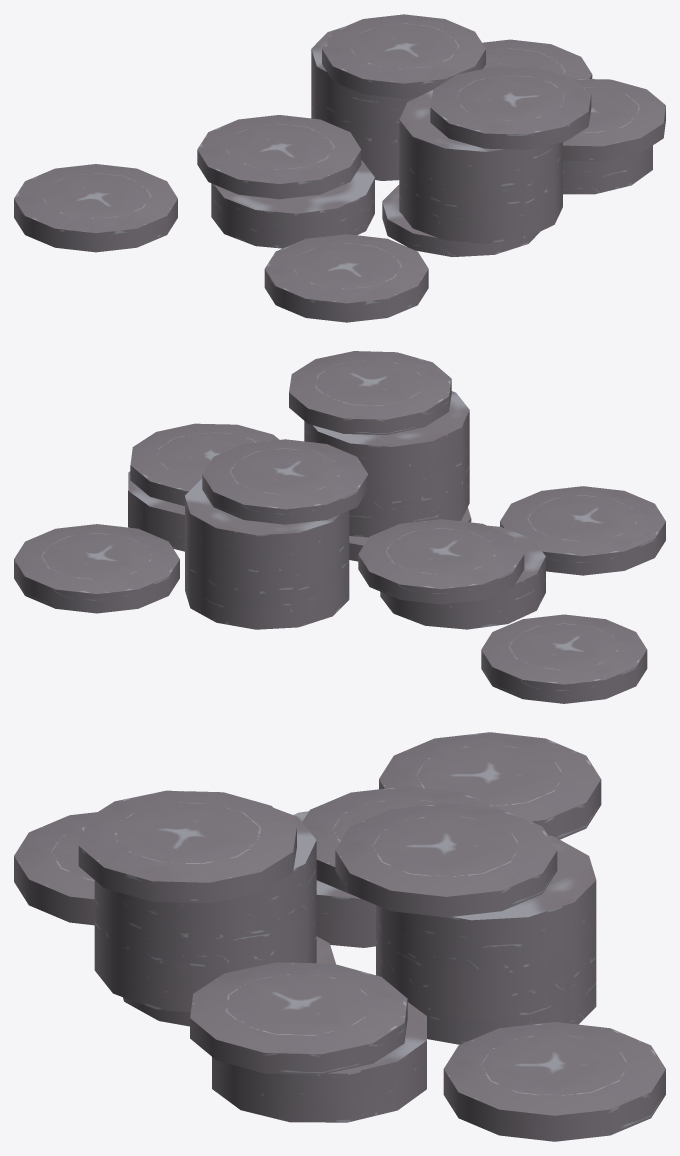
Rendered from Coin_Pile_2.fbx.
3 renders of one model, top to bottom at view 1: azimuth 30°, elevation 25°; view 2: azimuth 150°, elevation 25°; view 3: azimuth 270°, elevation 25°, orthographic. The views are drawn at different scales.
Visible parts, largest first — view 1: Coin_Pile_2; view 2: Coin_Pile_2; view 3: Coin_Pile_2.
Part boxes in pixels (x1,y1,x2,y2): Coin_Pile_2: (14,14,665,322); Coin_Pile_2: (14,351,665,703); Coin_Pile_2: (14,732,665,1141).
Bounding box in the file's own units: 27.87 × 5.84 × 20.02.
